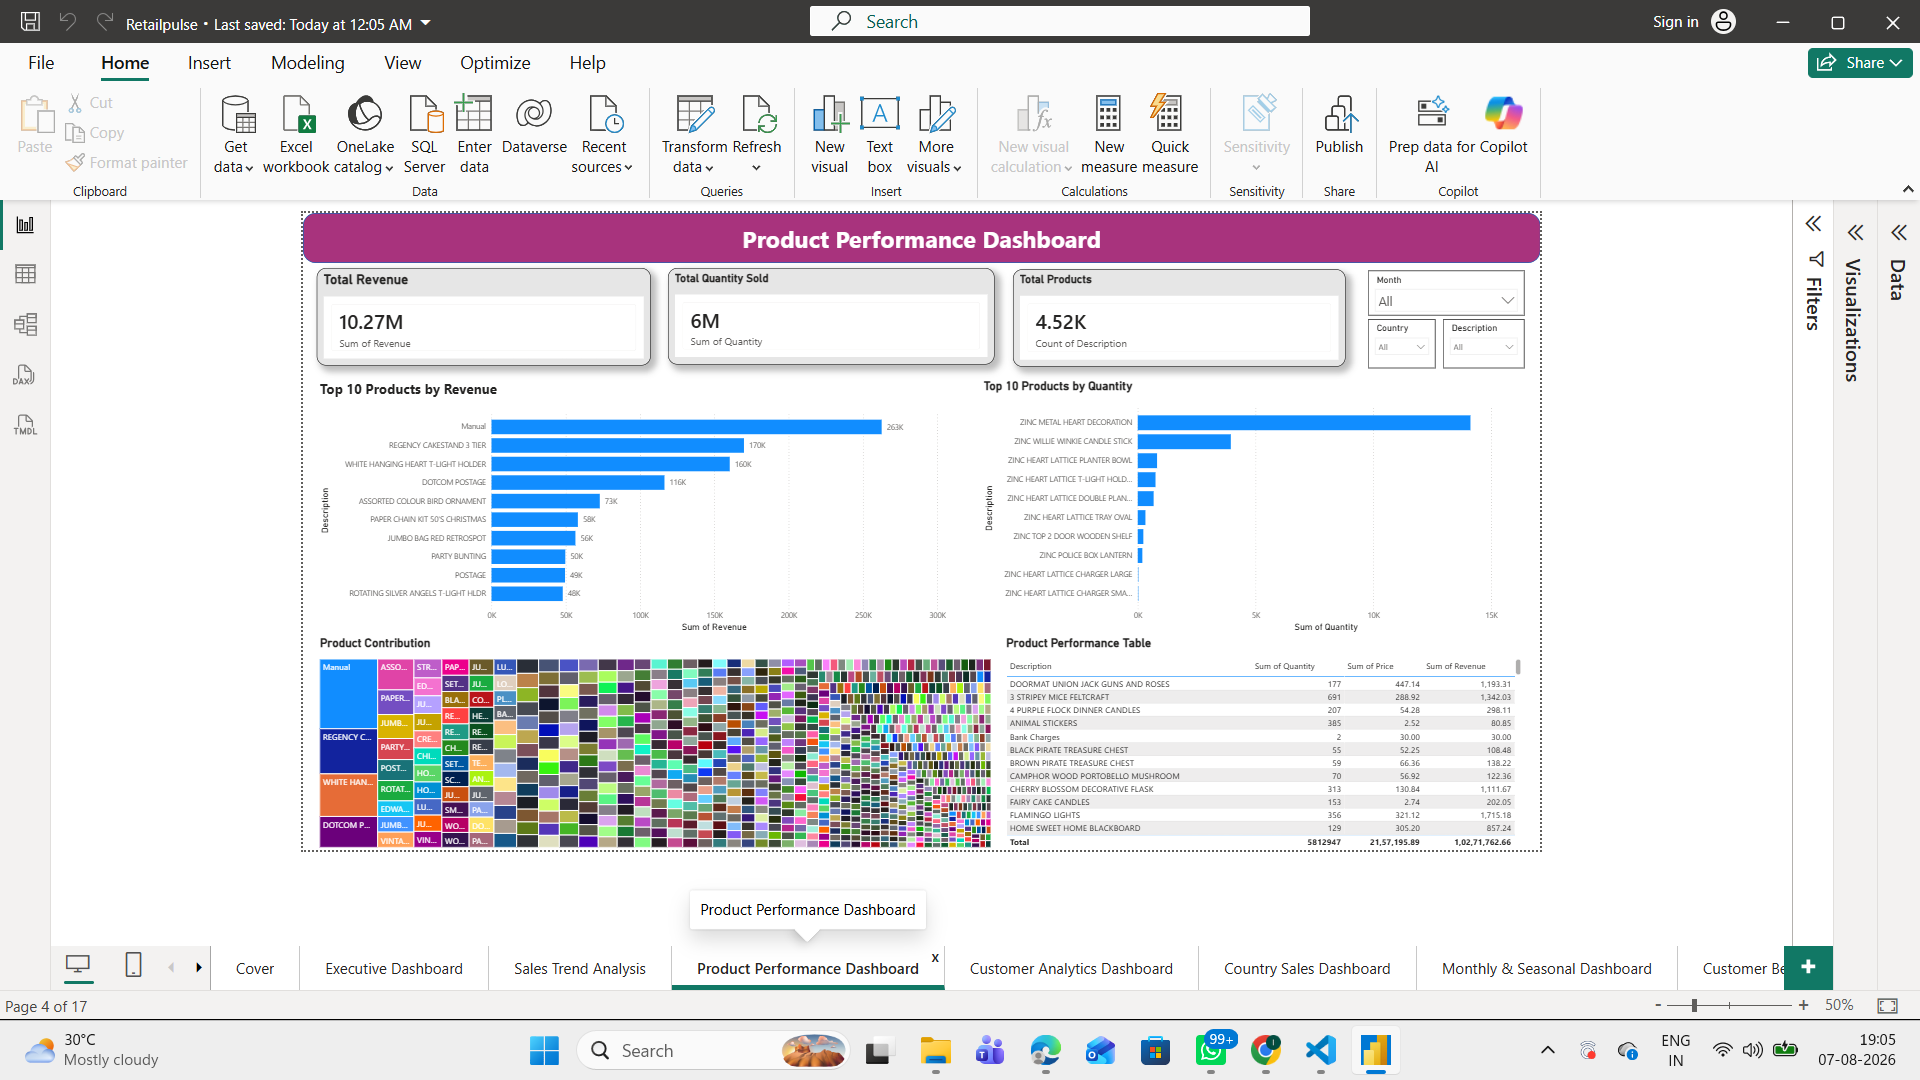

What the dashboard file says about the page in this screenshot:
{"tool":"powerbi","page":{"name":"Product Performance Dashboard","canvas":[1980,1020],"ordinal":3},"visuals":[{"type":"clusteredBarChart","title":"Top 10 Products by Revenue","fields":{"Category":["cleaned_online_retail.Description"],"Y":["Sum(cleaned_online_retail.Revenue)"]},"box":[22,266,1012,410],"z":0},{"type":"cardVisual","title":"Total Revenue","fields":{"Data":["Sum(cleaned_online_retail.Revenue)"]},"box":[22,88,534,156],"z":1000},{"type":"cardVisual","title":"Total Quantity Sold","fields":{"Data":["Sum(cleaned_online_retail.Quantity)"]},"box":[584,88,522,154],"z":2000},{"type":"cardVisual","title":"Total Products","fields":{"Data":["Count(cleaned_online_retail.Description)"]},"box":[1136,90,532,156],"z":3000},{"type":"treemap","title":"Product Contribution","fields":{"Values":["Sum(cleaned_online_retail.Revenue)"],"Group":["cleaned_online_retail.Description"]},"box":[22,676,1084,344],"z":4000},{"type":"clusteredBarChart","title":"Top 10 Products by Quantity","fields":{"Category":["cleaned_online_retail.Description"],"Y":["Sum(cleaned_online_retail.Quantity)"]},"box":[1084,266,870,410],"z":5000},{"type":"tableEx","title":"Product Performance Table","fields":{"Values":["cleaned_online_retail.Description","Sum(cleaned_online_retail.Quantity)","Sum(cleaned_online_retail.Price)","Sum(cleaned_online_retail.Revenue)"]},"box":[1120,676,834,344],"z":6000},{"type":"slicer","fields":{"Values":["cleaned_online_retail.Month"]},"box":[1704,92,250,72],"z":7000},{"type":"slicer","fields":{"Values":["cleaned_online_retail.Country"]},"box":[1704,170,108,78],"z":8000},{"type":"slicer","fields":{"Values":["cleaned_online_retail.Description"]},"box":[1824,170,130,78],"z":9000},{"type":"shape","box":[0,0,1980,80],"z":10000}]}

Visuals, with their boxes on the page's 1980x1020 design canvas (x1, y1, x2, y2). These are canvas units, not pixel positions in the 1920x1080 screenshot, which may show the page scaled, cropped or inside an application window:
"Top 10 Products by Revenue" clusteredBarChart: bbox=(22, 266, 1034, 676)
"Total Revenue" cardVisual: bbox=(22, 88, 556, 244)
"Total Quantity Sold" cardVisual: bbox=(584, 88, 1106, 242)
"Total Products" cardVisual: bbox=(1136, 90, 1668, 246)
"Product Contribution" treemap: bbox=(22, 676, 1106, 1020)
"Top 10 Products by Quantity" clusteredBarChart: bbox=(1084, 266, 1954, 676)
"Product Performance Table" tableEx: bbox=(1120, 676, 1954, 1020)
slicer - cleaned_online_retail.Month: bbox=(1704, 92, 1954, 164)
slicer - cleaned_online_retail.Country: bbox=(1704, 170, 1812, 248)
slicer - cleaned_online_retail.Description: bbox=(1824, 170, 1954, 248)
shape: bbox=(0, 0, 1980, 80)
